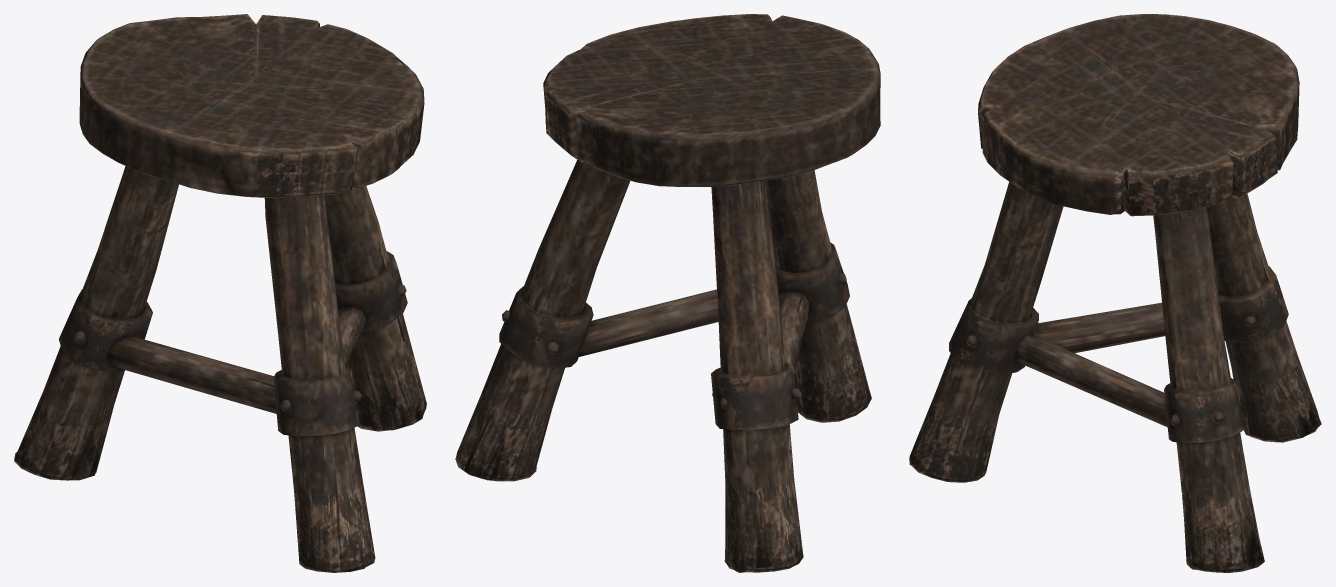
Rendered from d_stool.glb.
The picture shows the model from 3 angles, left to right: view 1: azimuth 30°, elevation 25°; view 2: azimuth 150°, elevation 25°; view 3: azimuth 270°, elevation 25°; orthographic projection. The views are drawn at different scales.
Parts seen in each view (by area): view 1: d_stool; view 2: d_stool; view 3: d_stool.
Part boxes in pixels (x1,y1,x2,y2): d_stool: (14, 14, 426, 572); d_stool: (455, 14, 880, 572); d_stool: (909, 14, 1321, 572).
Bounding box in the file's own units: 0.46 × 0.5 × 0.4663.
1 material, 1 textured.
